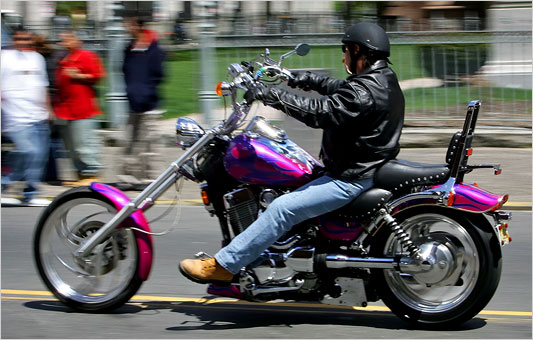helmet: (332, 16, 394, 80)
